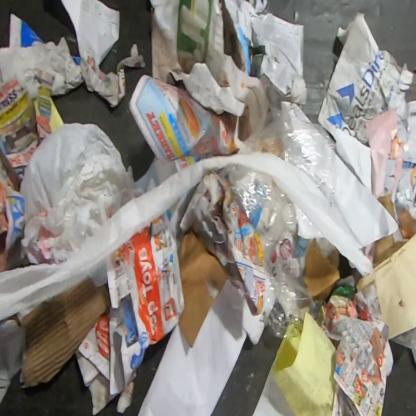cardboard: (19, 274, 111, 389), (178, 228, 230, 352), (304, 238, 340, 301), (372, 233, 410, 269), (378, 192, 396, 220)
soft_plastic: (19, 122, 144, 265), (228, 163, 325, 340), (236, 107, 338, 208)
